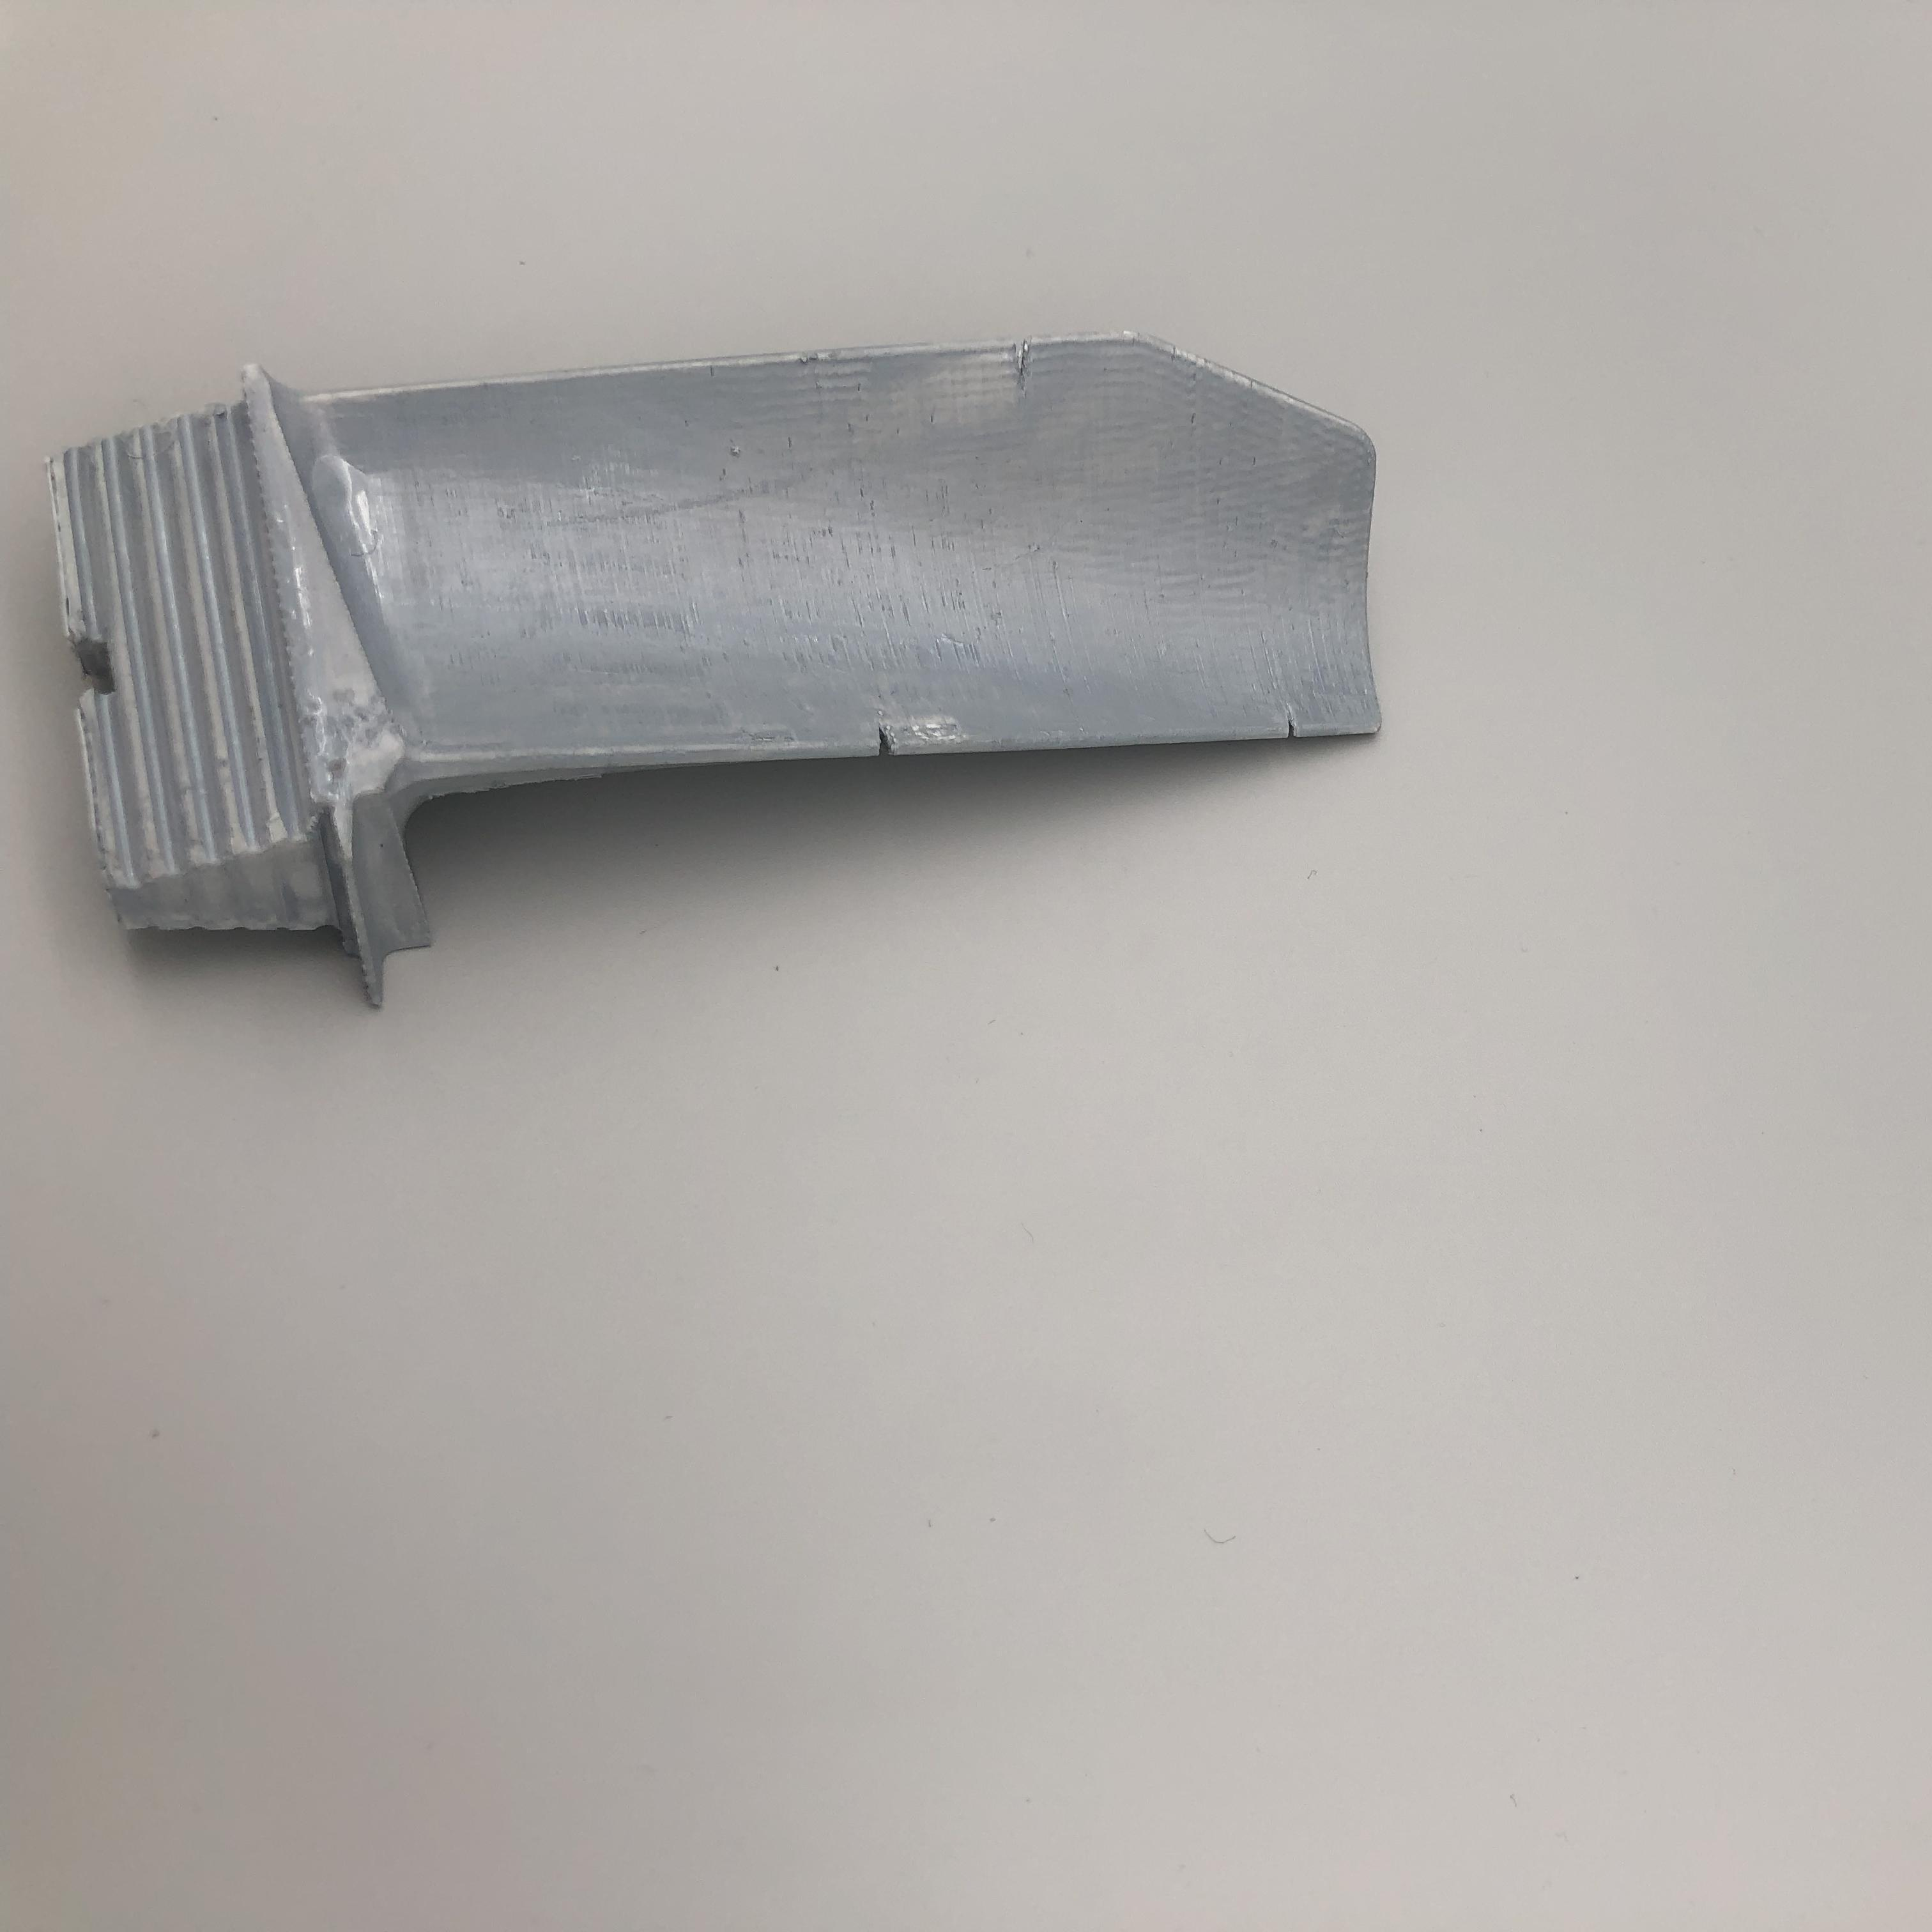groove: (867, 718, 920, 759), (1005, 343, 1054, 386), (1281, 708, 1309, 745)
